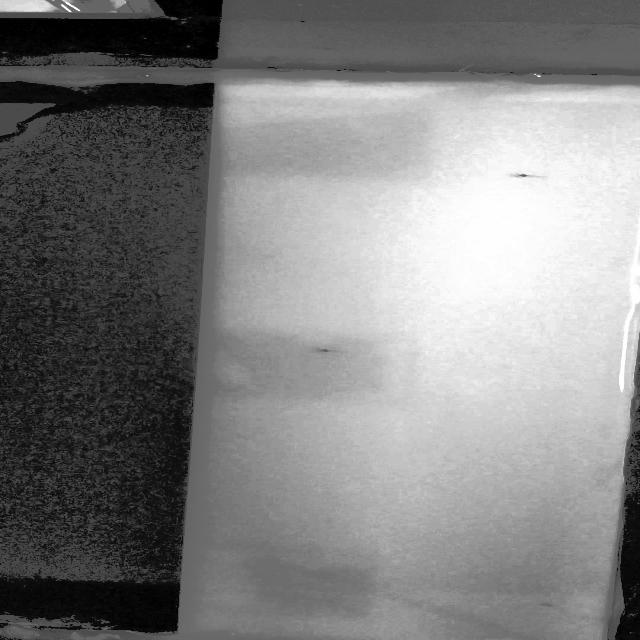shrimp: (503, 166, 551, 184), (537, 594, 567, 612), (310, 340, 340, 357)
